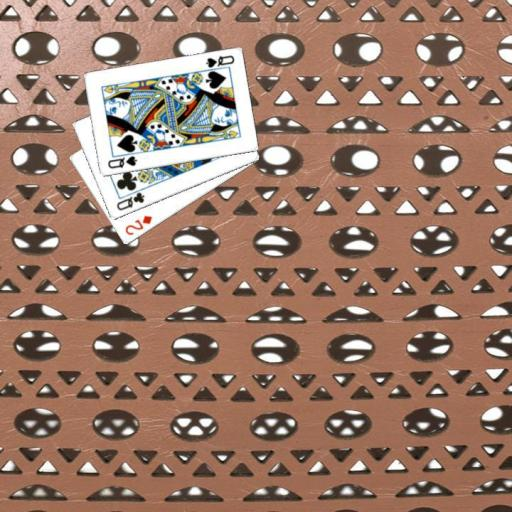2D: (122, 213, 154, 237)
QC: (113, 189, 146, 213)
QS: (105, 153, 139, 171), (203, 52, 235, 70)
